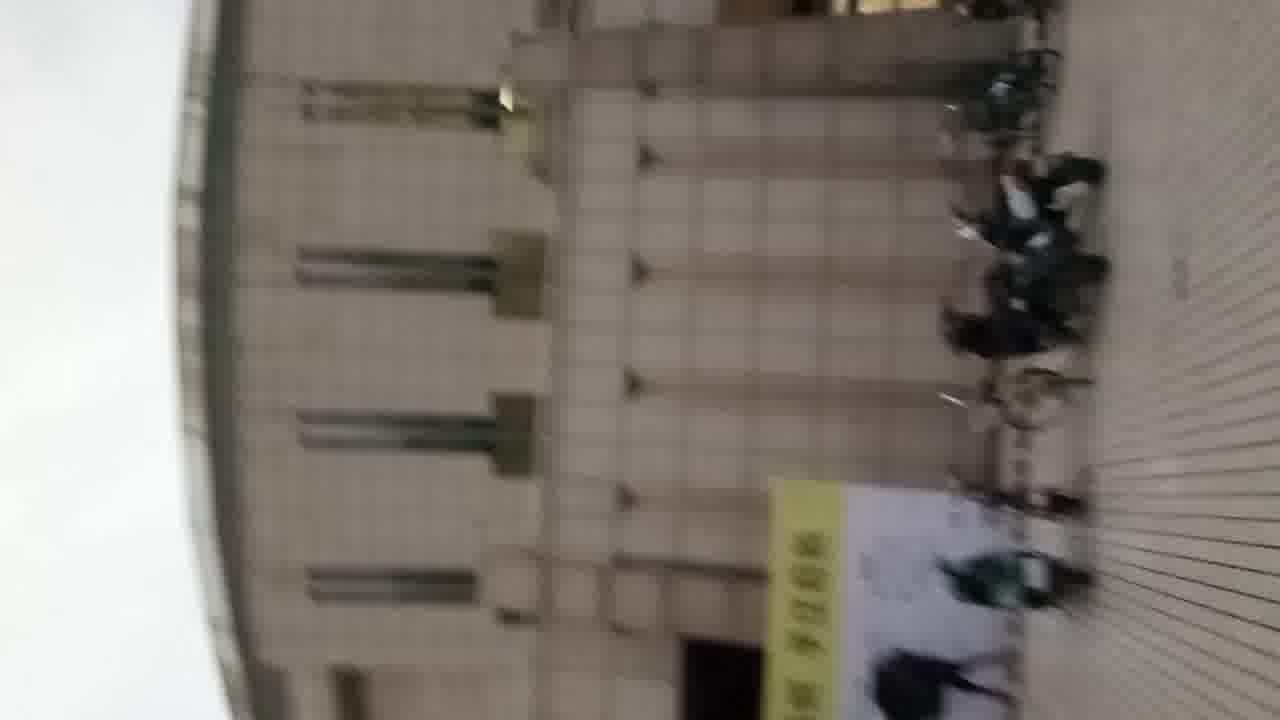zhongtiww: (168, 8, 1009, 720)
